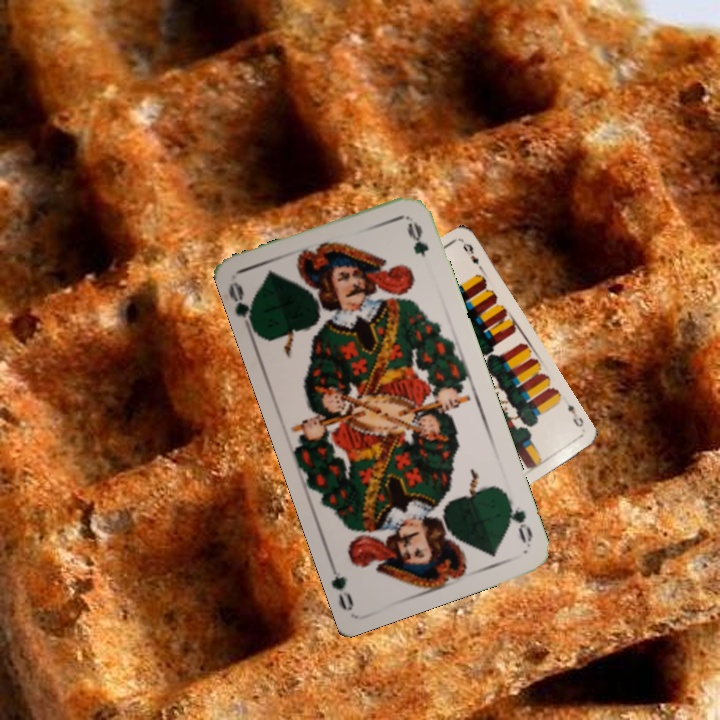E9: (563, 400, 586, 430)
GO: (225, 279, 259, 338), (502, 492, 536, 546)
